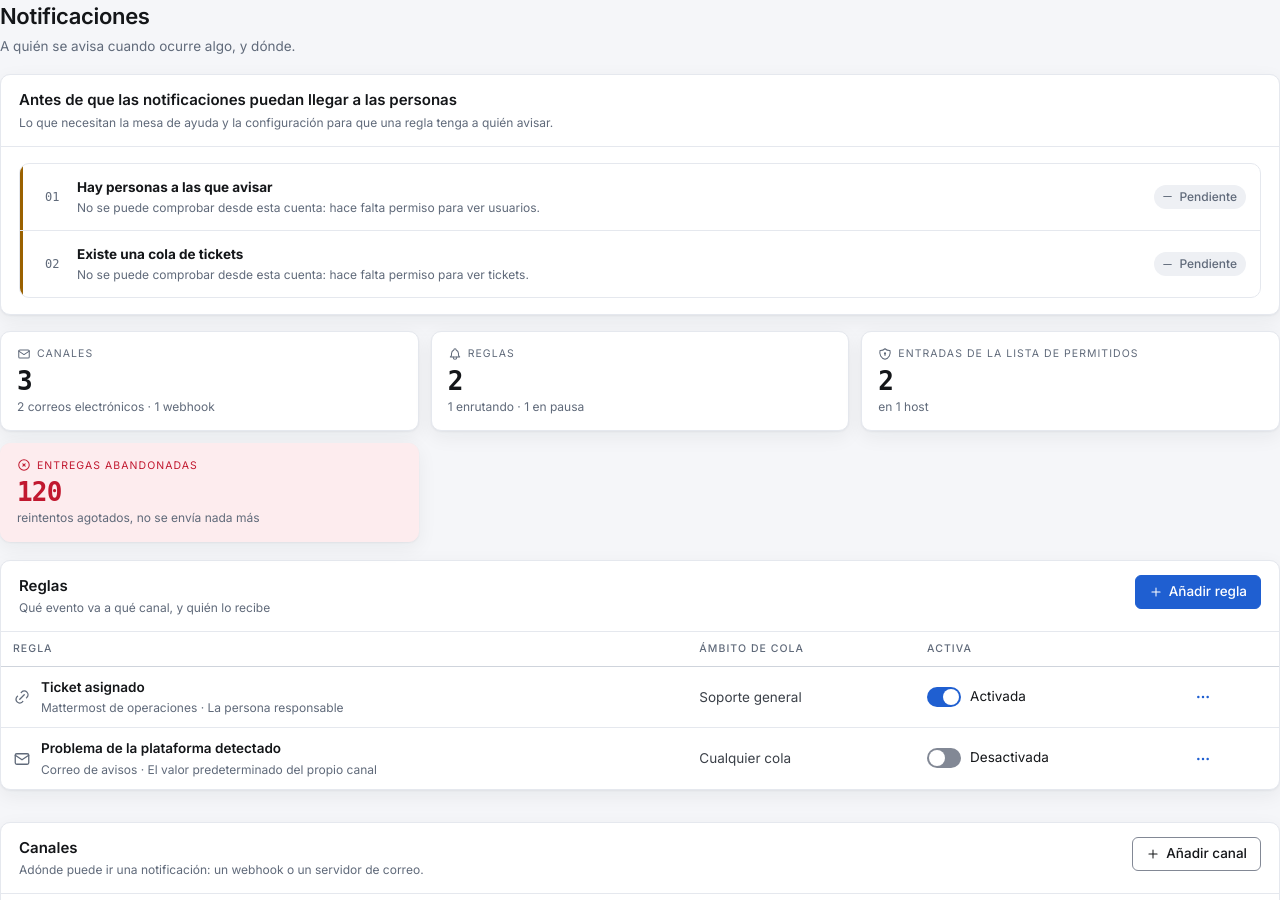
Test: the rules in Spanish › confirms a delete in Spanish and words a refusal, holding the failure
This screenshot has width=1280, height=900.
Click the button named "Más acciones para regla Ticket asignado".
click(1203, 697)  # box [1185, 679, 1221, 715]
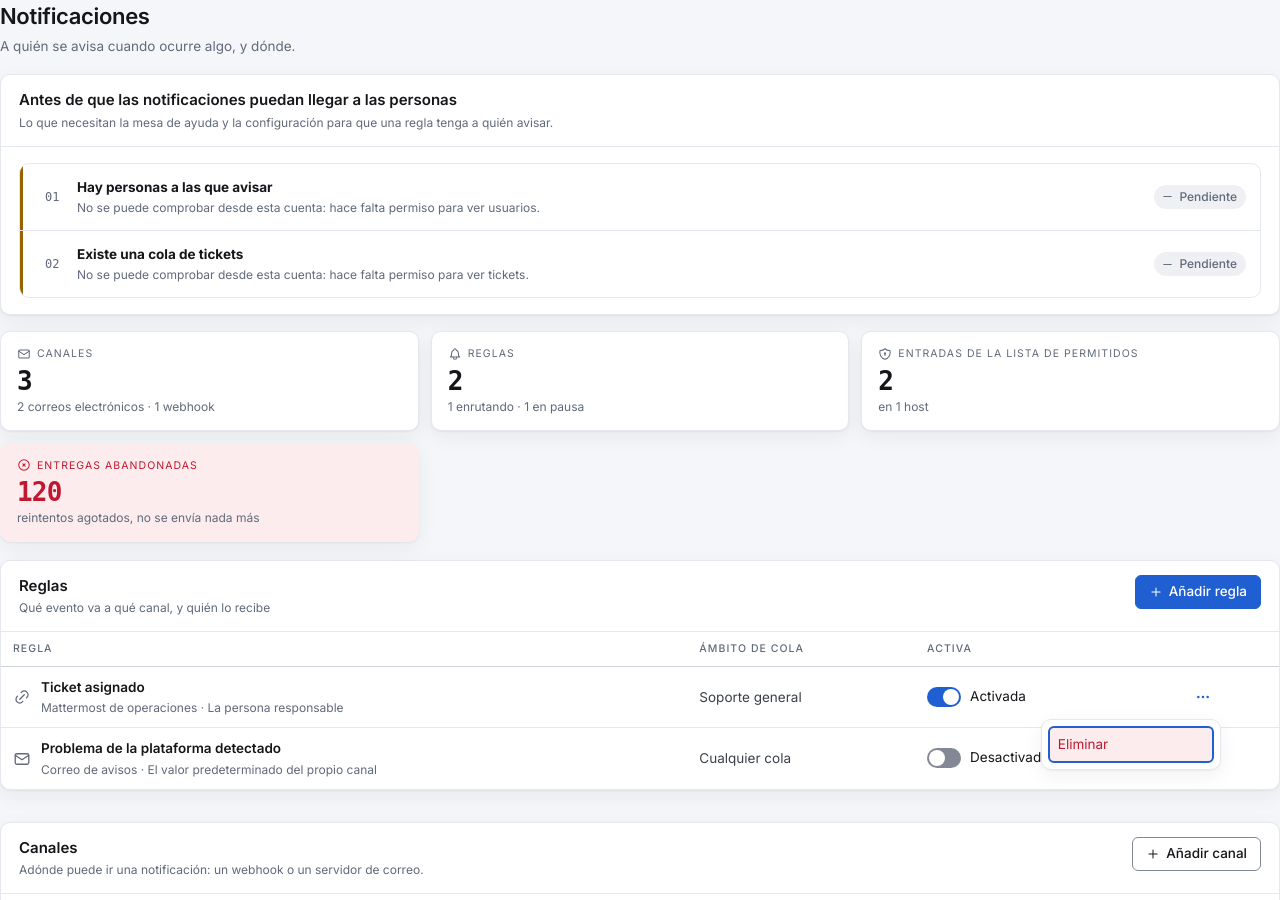
Click the menu item "Eliminar".
click(1131, 744)  # box [1048, 726, 1214, 763]
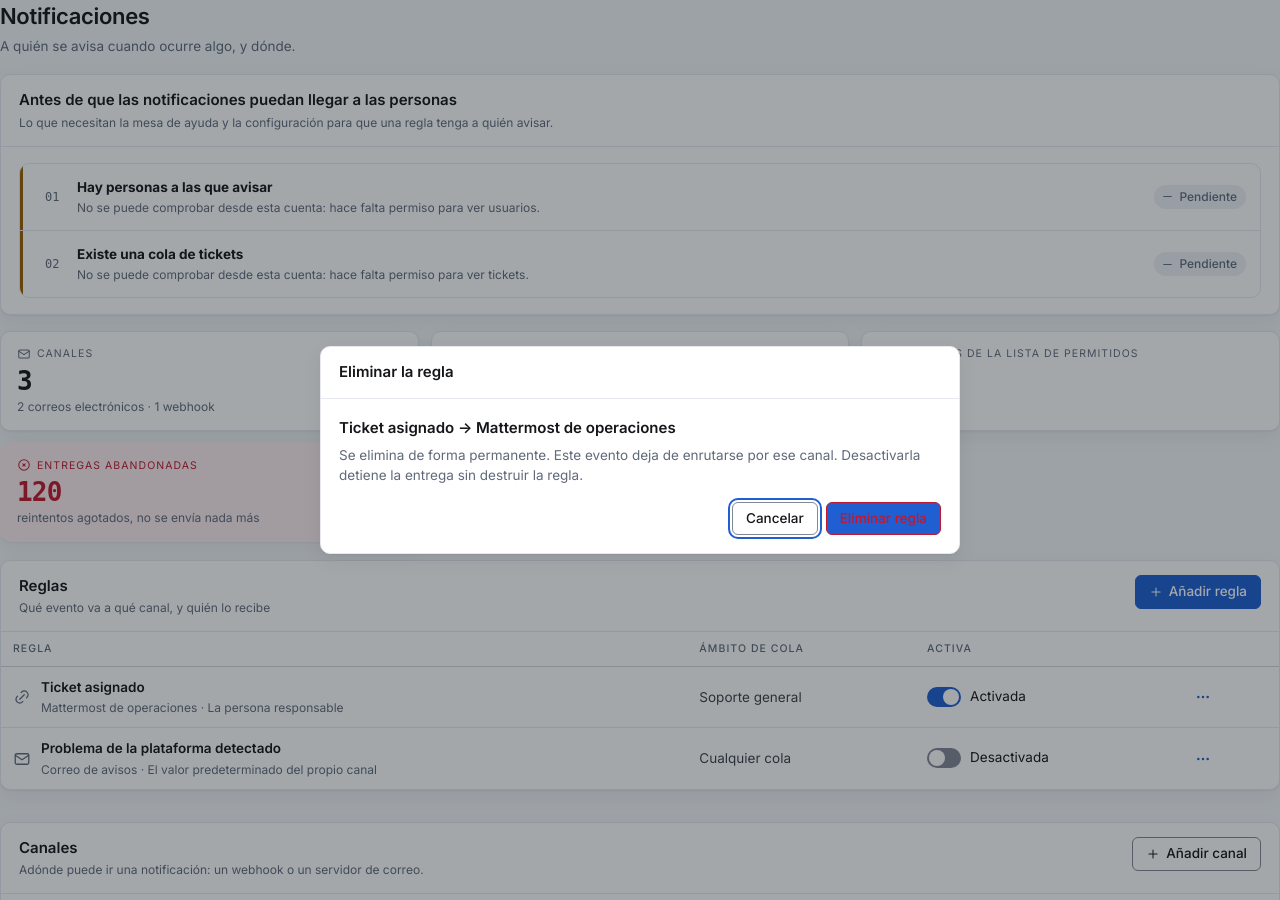
Expected: the text "Ticket asignado → Mattermost de operaciones" is shown, [339, 418, 676, 436]
Expected: the text "Se elimina de forma permanente." is shown, [339, 447, 920, 483]
Click the button "Eliminar regla".
click(883, 518)  # box [826, 502, 941, 535]
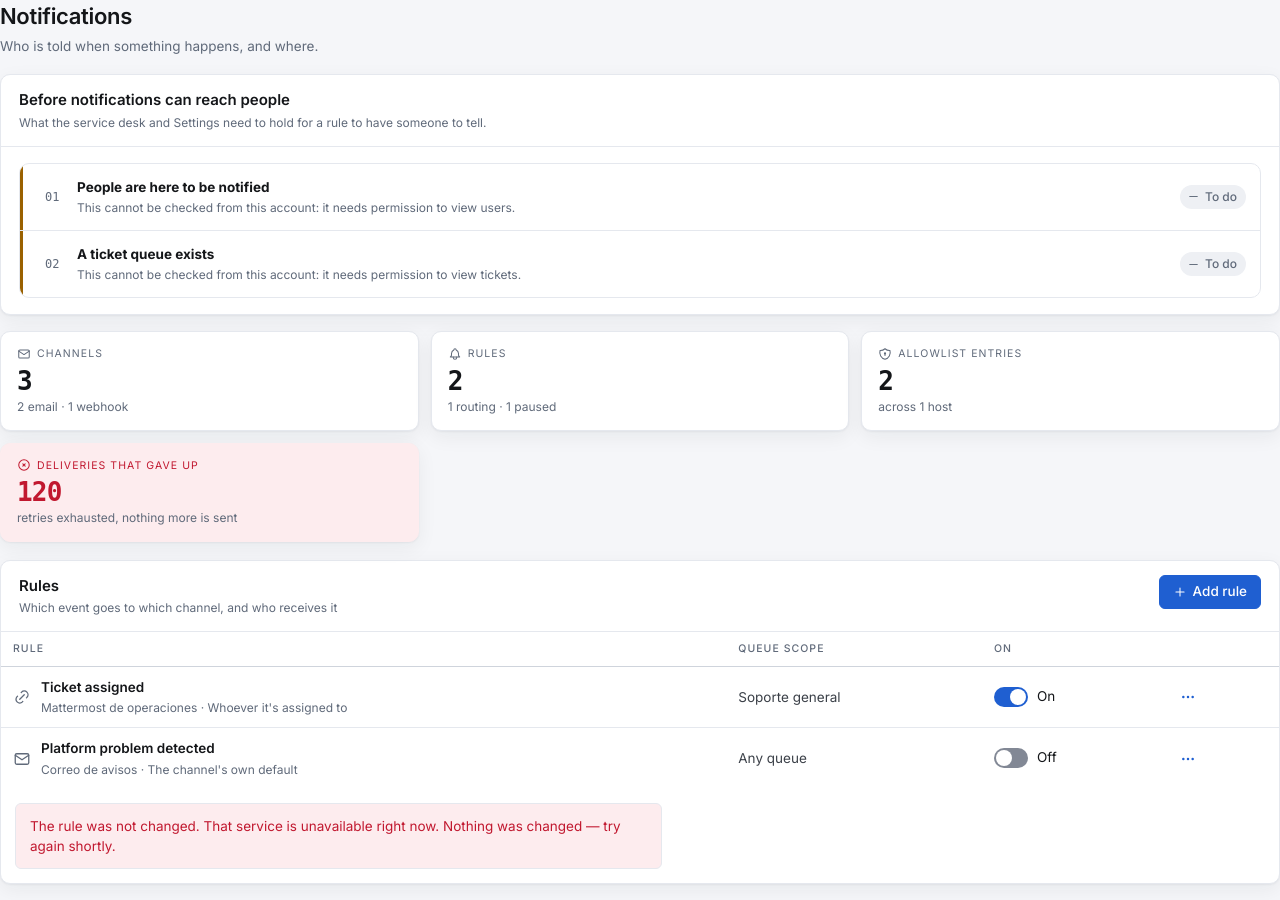
Expected: the text "No se cambió la regla. Ese servicio no está disponible" is shown, [15, 803, 662, 869]
Expected: the text "The rule was not changed. That service is unavailable" is shown, [30, 818, 621, 854]
